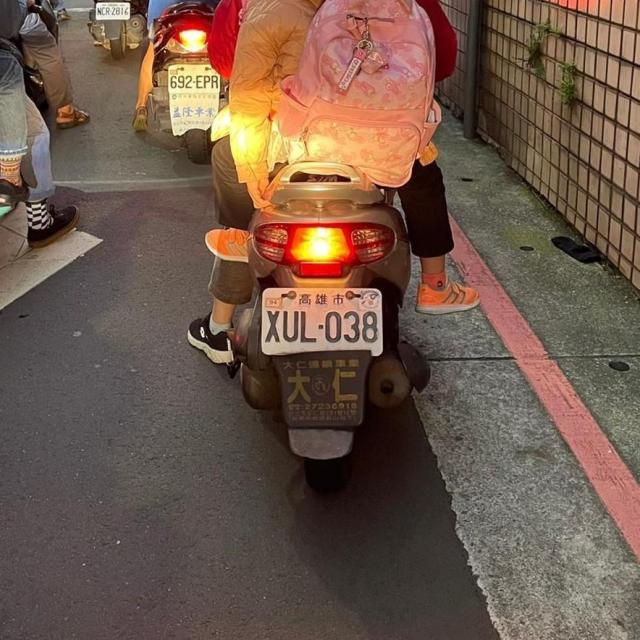W: (251, 279, 387, 362), (160, 58, 224, 101), (92, 0, 135, 23)
